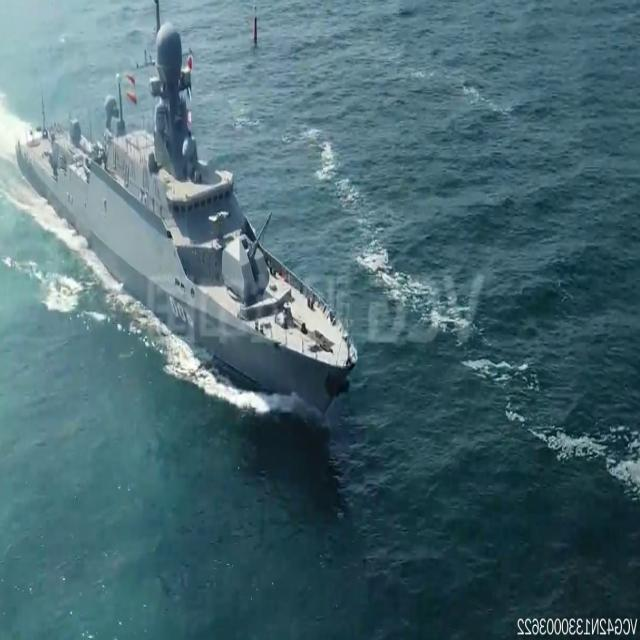navalvessels: (11, 5, 367, 412)
